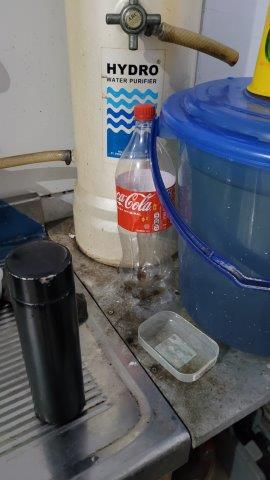botolplastik: (114, 103, 183, 302)
